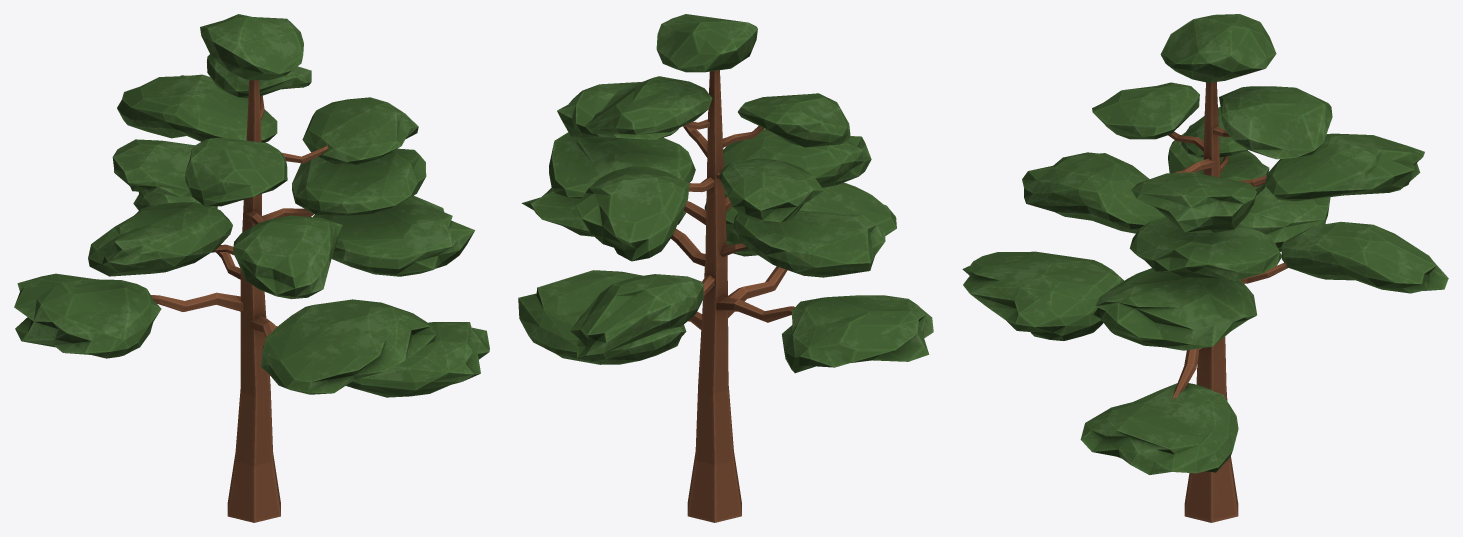
The model's file is tree_1.glb.
The picture shows the model from 3 angles, left to right: view 1: azimuth 30°, elevation 25°; view 2: azimuth 150°, elevation 25°; view 3: azimuth 270°, elevation 25°; orthographic projection.
Visible parts, largest first — view 1: BubingaTree_mesh; view 2: BubingaTree_mesh; view 3: BubingaTree_mesh.
Part boxes in pixels (bbox=[...]): BubingaTree_mesh: bbox=[14, 14, 489, 522]; BubingaTree_mesh: bbox=[518, 14, 933, 522]; BubingaTree_mesh: bbox=[962, 14, 1448, 522].
Size of the model in its own units: 21.03 by 22.43 by 20.35.
Materials: 1 (1 with a texture image).
